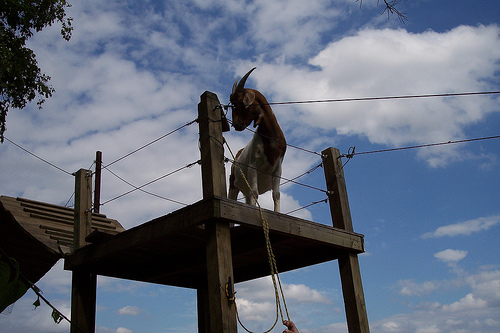goat: (228, 67, 288, 216)
